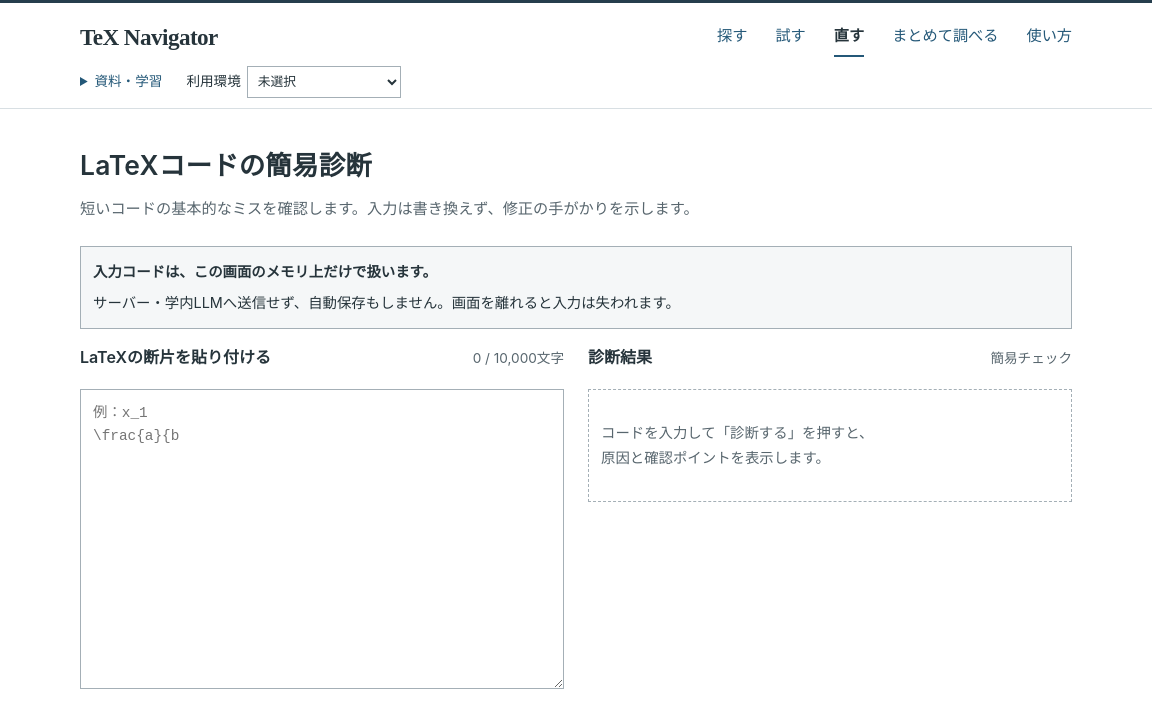
Test case: 主要画面の操作 › 入力を保存・送信・自動修正せず診断する
Type "x_1" into the text box labelled "LaTeXの断片を貼り付ける".
click(322, 539); type("x_1")  # box [80,389,564,689]
(page scrolled)
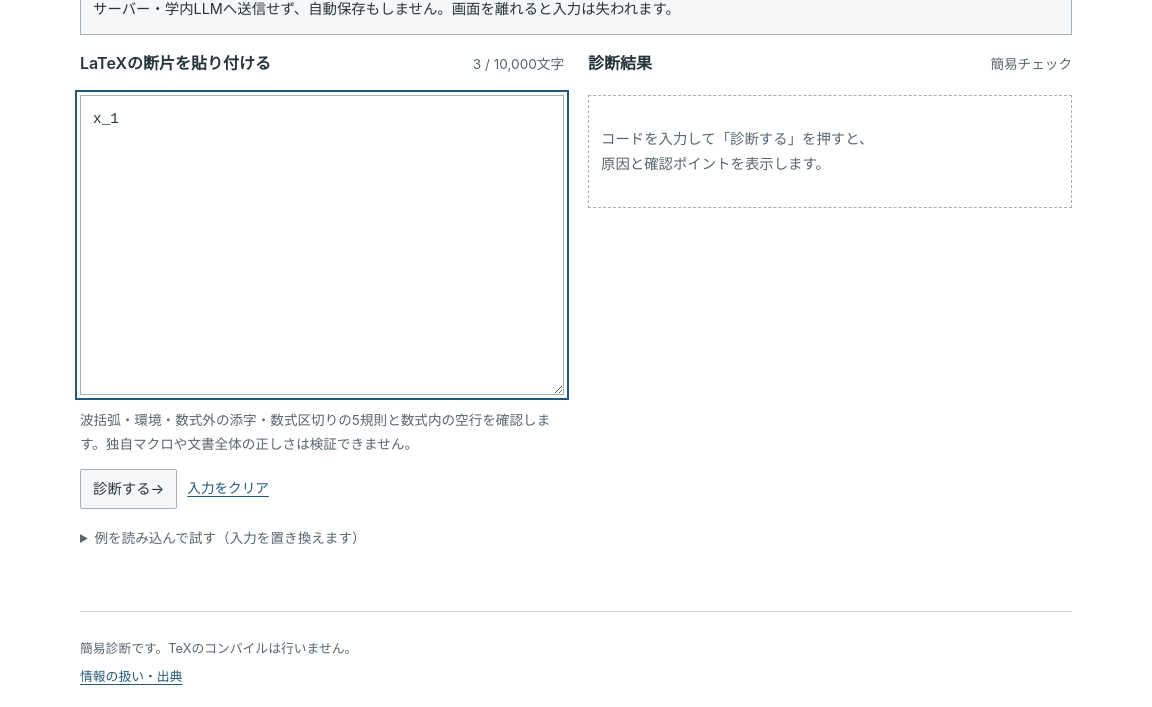
Click the button "診断する →".
click(129, 489)  # box [80,469,177,509]
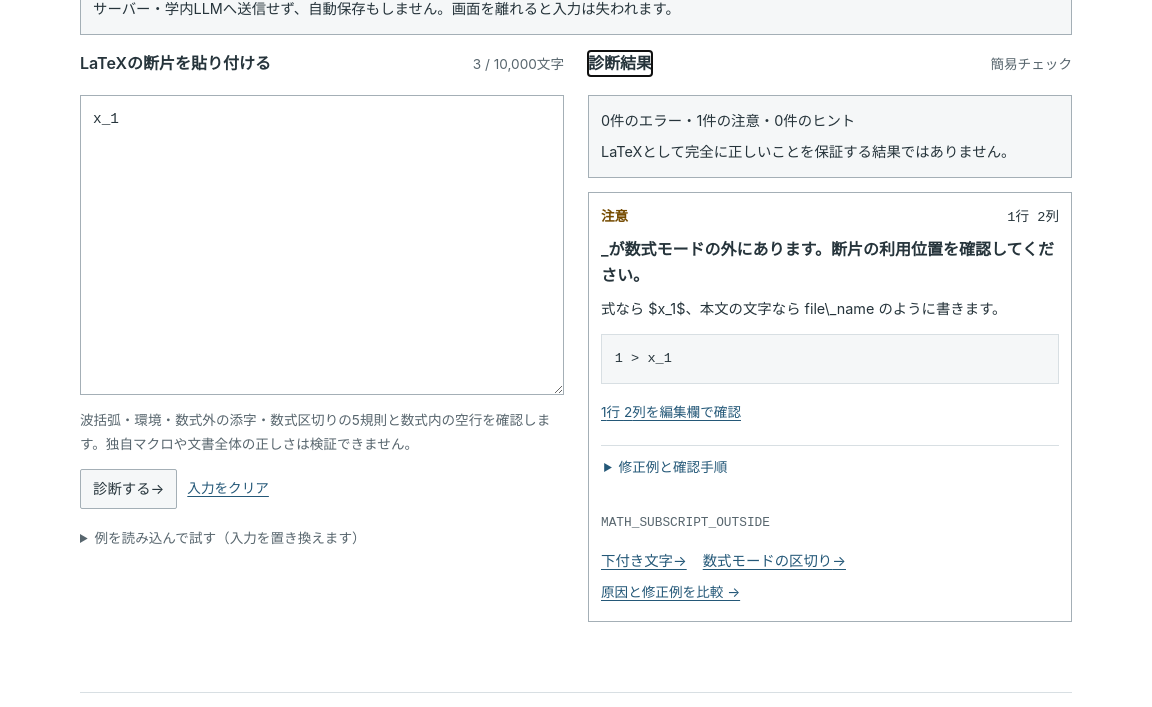
Expected: the text "MATH_SUBSCRIPT_OUTSIDE" is shown, [601,515,770,530]
Expected: the text "1行 2列" is shown, [1007,206,1059,229]
Replace the text in the text box labelled "LaTeXの断片を貼り付ける" with "$x_1$" at (322, 245), box [80,95,564,395]
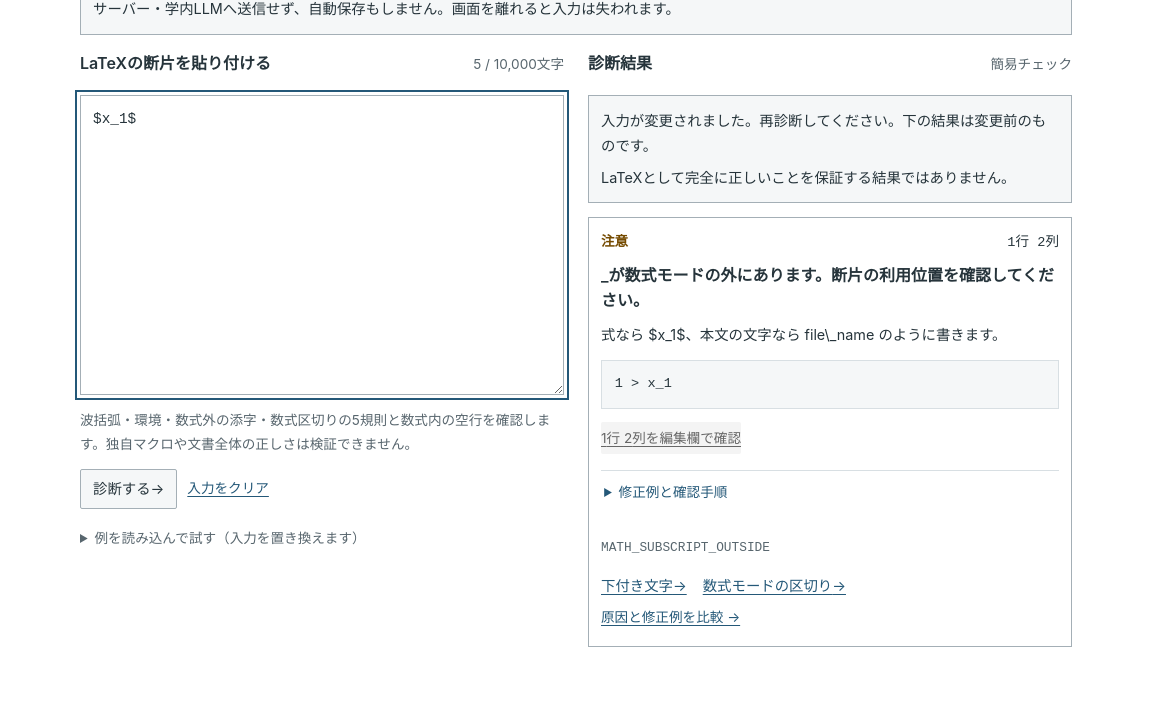
Expected: the text "入力が変更されました。再診断してください。下の結果は変更前のものです。 LaTeXとして完全に正しいことを保証する結果ではありません。" is shown, [588,95,1072,203]
Click the button "診断する →".
click(129, 489)  # box [80,469,177,509]
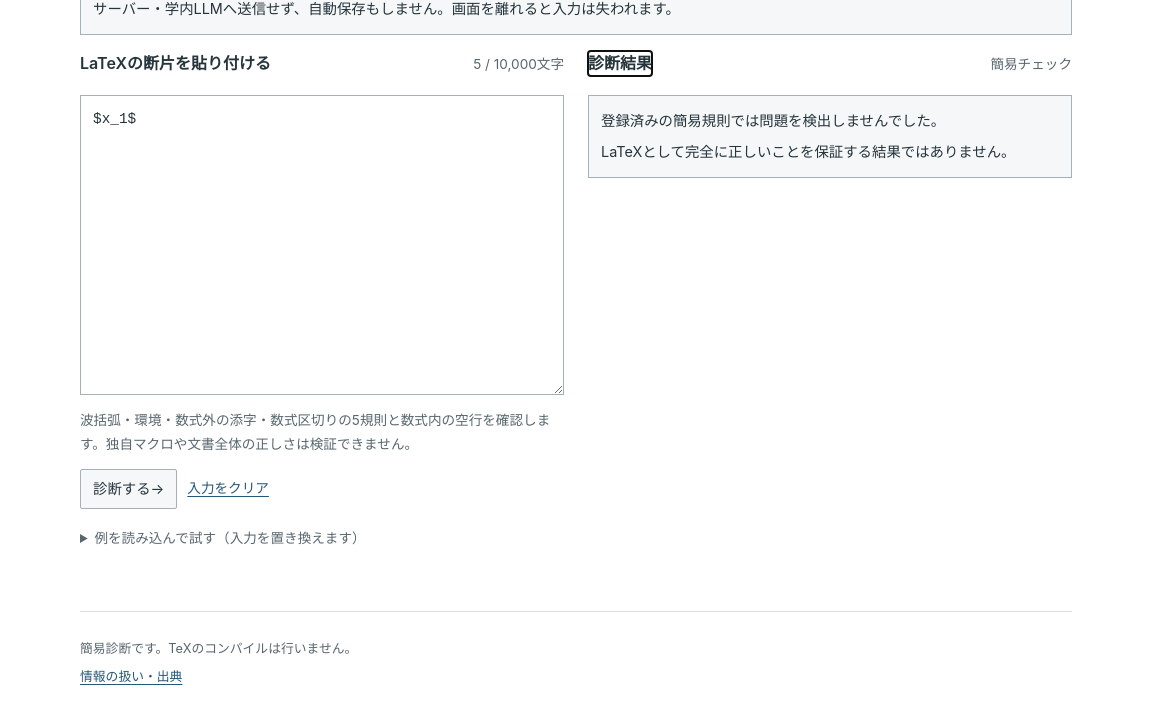
Expected: the text "登録済みの簡易規則では問題を検出しませんでした。" is shown, [601,112,945,129]
Expected: the text "MATH_SUBSCRIPT_OUTSIDE" is gone
